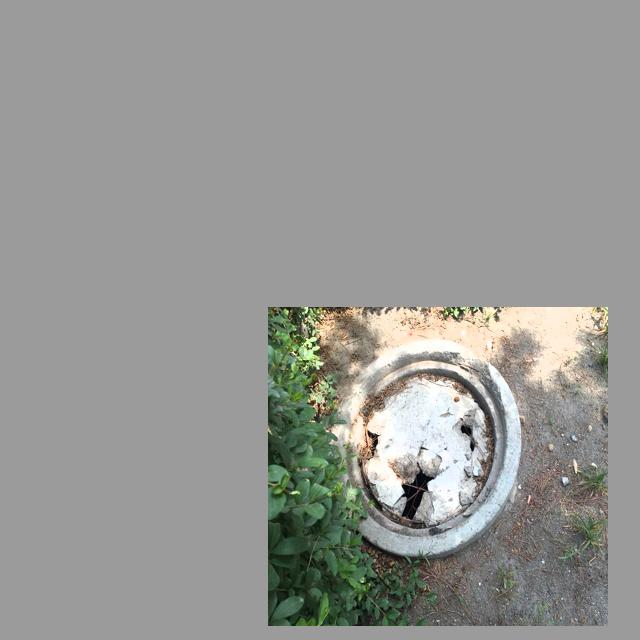broke: (319, 338, 527, 559)
